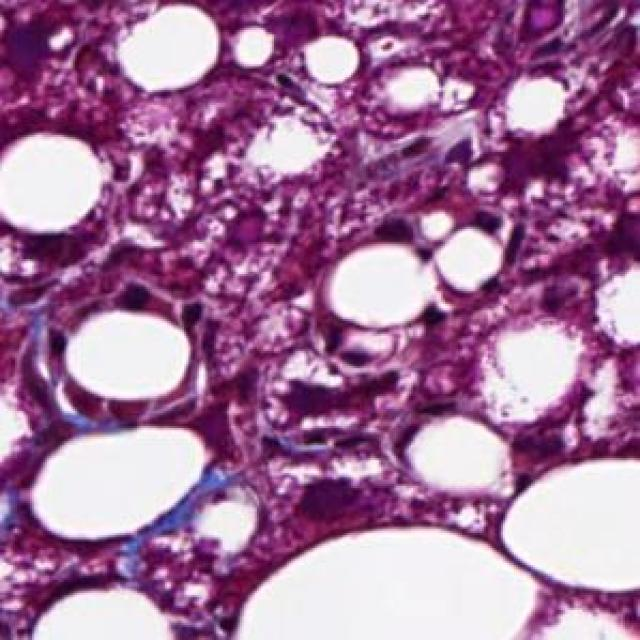inflammation: (268, 360, 415, 430), (364, 205, 441, 272), (462, 201, 533, 253)
